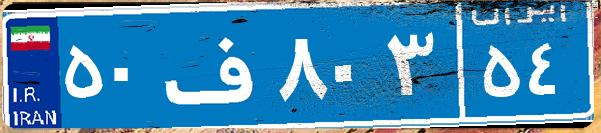0: (330, 28, 385, 110), (110, 28, 158, 105)
3: (385, 28, 445, 110)
4: (525, 38, 570, 115)
5: (57, 26, 110, 107), (475, 38, 525, 113)
8: (273, 28, 330, 110)
ف: (158, 15, 273, 115)
